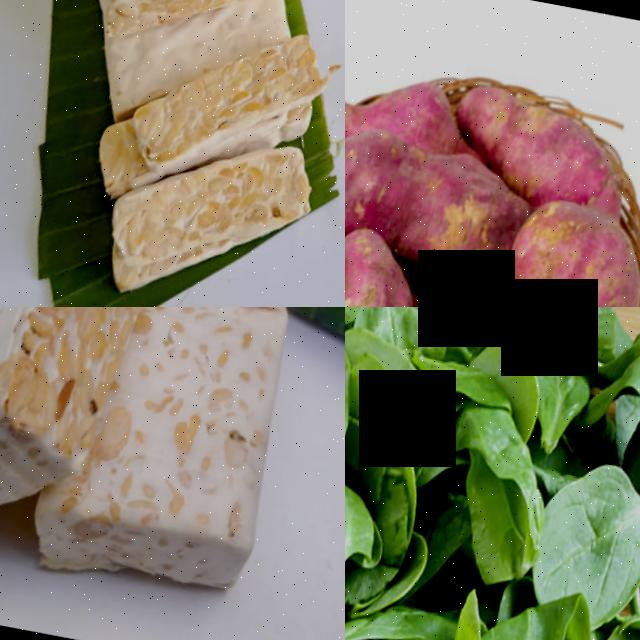spinach: (530, 453, 640, 616), (345, 318, 373, 545), (354, 307, 471, 344)
sweet potato: (345, 122, 534, 257), (500, 177, 640, 307), (450, 83, 621, 181)
tempeh: (118, 133, 331, 306), (134, 17, 344, 186), (27, 0, 336, 58)
tofu: (57, 307, 323, 600), (0, 307, 174, 555)
